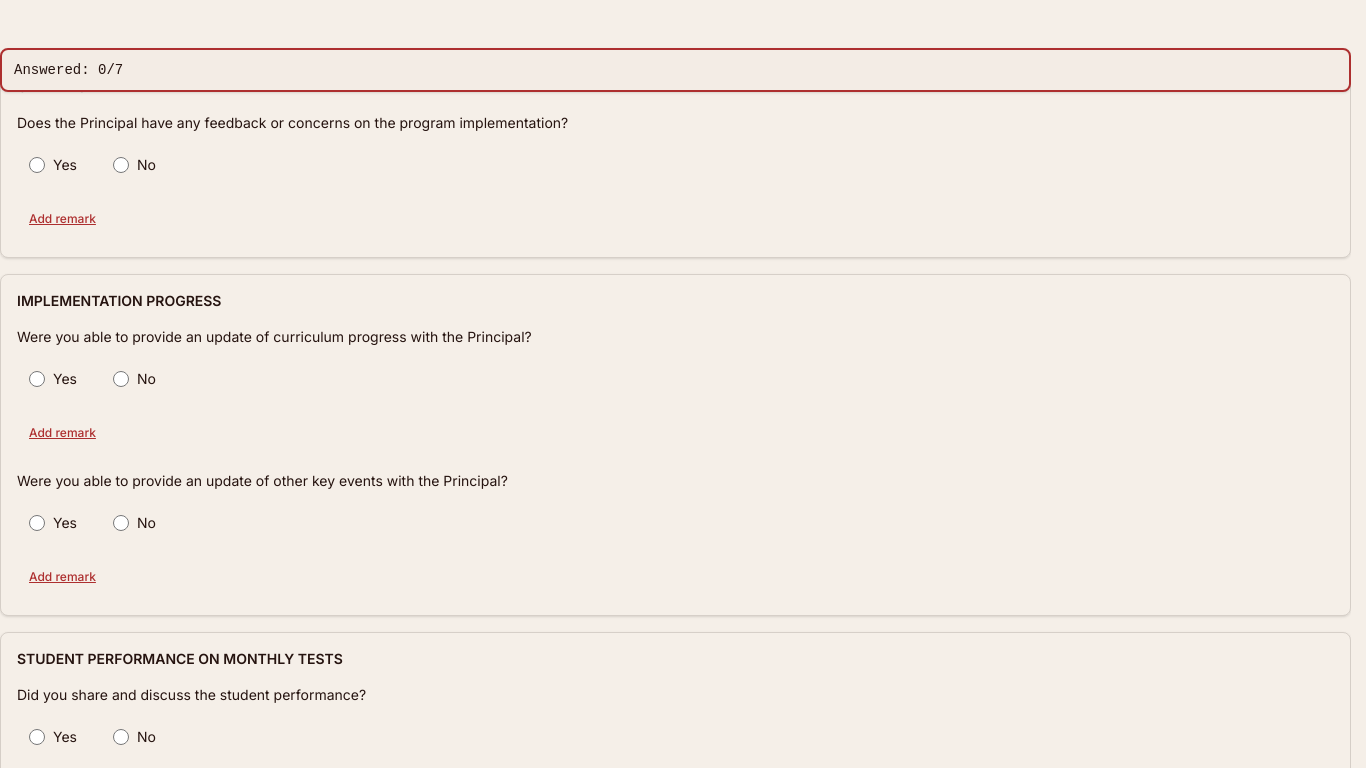
Test case: PrincipalInteractionForm › interactions › Add remark toggle reveals remark textarea
Click the button "Add remark" below "Operational Health" at (62,219), box [17,197,108,241]
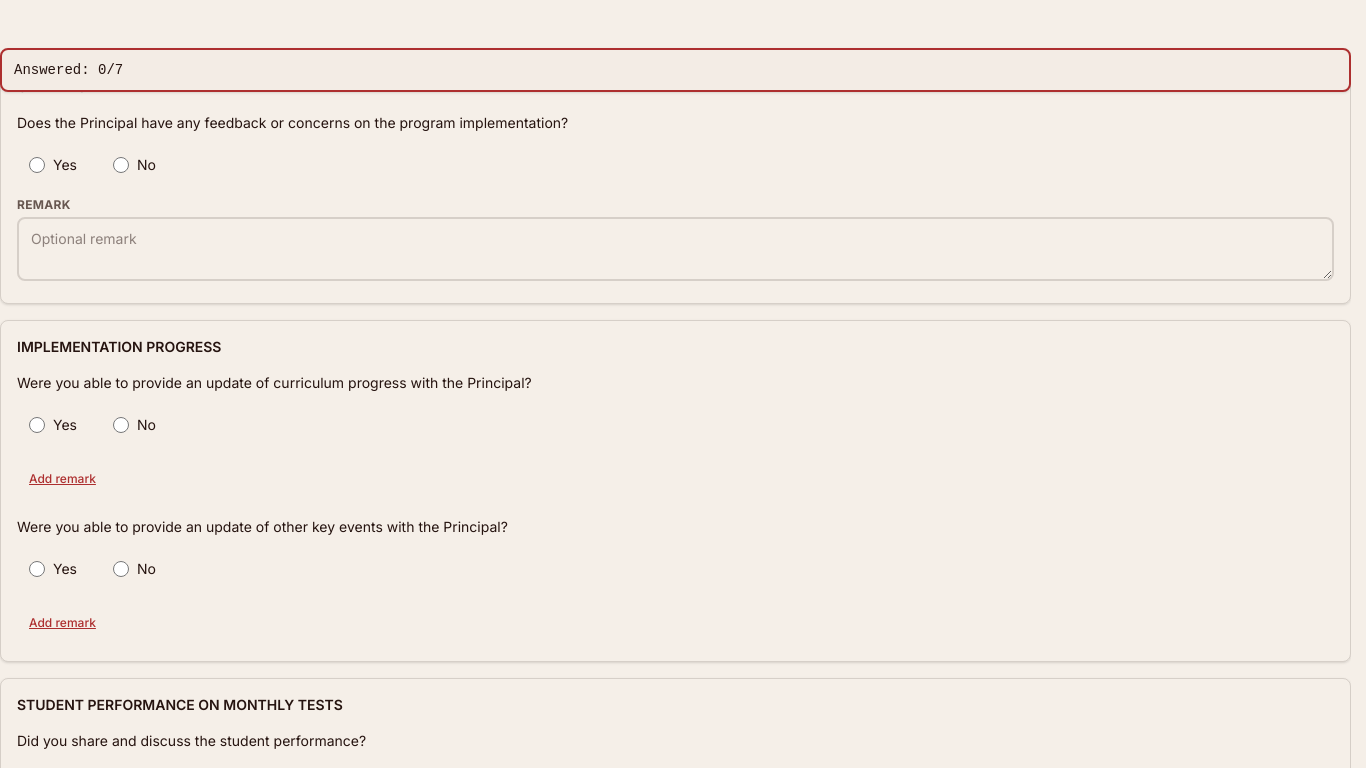
Expected: the text box with test id "principal-interaction-oh_program_feedback-remark" is shown, [17,217,1334,281]
